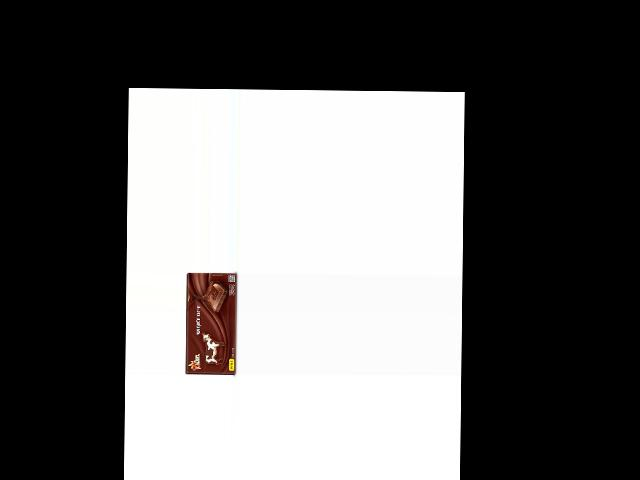chocolate: (184, 273, 237, 377)
